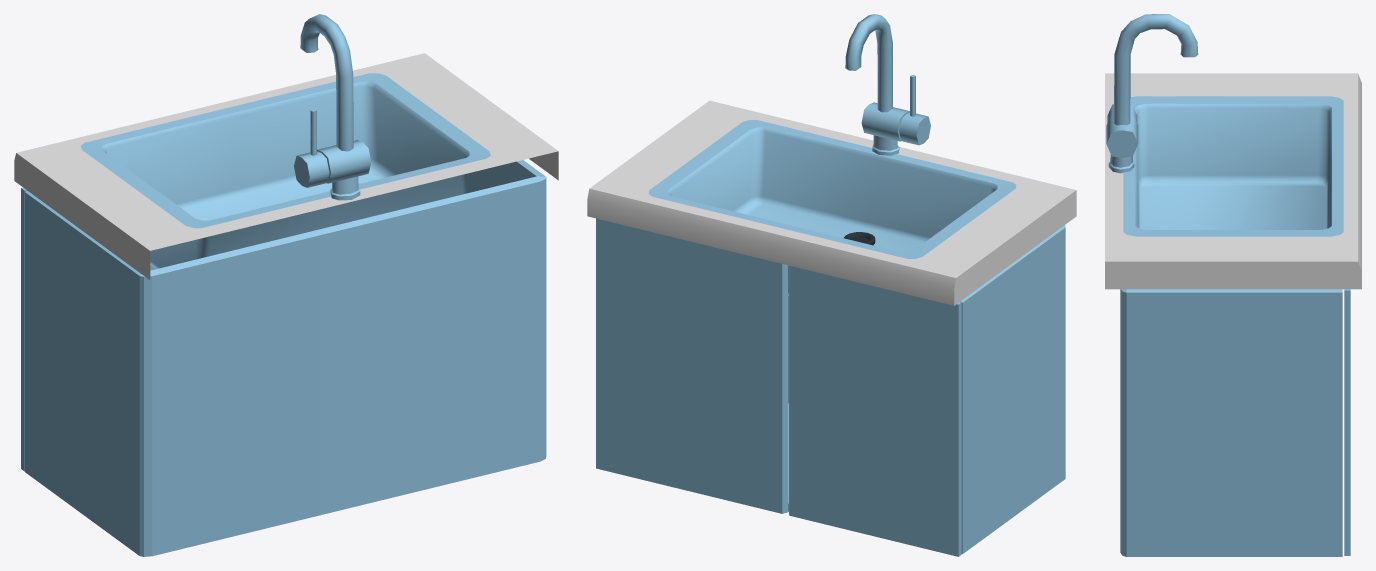
Rendered from Prop_sink.FBX.
3 renders of one model, left to right at view 1: azimuth 30°, elevation 25°; view 2: azimuth 150°, elevation 25°; view 3: azimuth 270°, elevation 25°, orthographic. The views are drawn at different scales.
Visible parts, largest first — view 1: Prop_closet034, Box160, Prop_kitchentop003, Tap, Prop_closet033; view 2: Prop_closet032, Prop_closet033, Prop_kitchentop003, Box160, Prop_closet034, Tap; view 3: Prop_closet034, Box160, Prop_kitchentop003, Tap, Prop_closet032.
Boxes of the visible parts, x1,y1,x2,y2 form: Prop_closet034: (25, 160, 546, 556); Box160: (81, 73, 490, 268); Prop_kitchentop003: (14, 53, 558, 279); Tap: (294, 14, 371, 200); Prop_closet033: (21, 187, 155, 471); Prop_closet032: (596, 218, 788, 513); Prop_closet033: (789, 265, 961, 556); Prop_kitchentop003: (587, 100, 1076, 305); Box160: (648, 120, 1016, 295); Prop_closet034: (788, 225, 1065, 553); Tap: (845, 14, 930, 155); Prop_closet034: (1120, 289, 1342, 556); Box160: (1123, 96, 1343, 236); Prop_kitchentop003: (1105, 73, 1361, 289); Tap: (1106, 14, 1198, 173); Prop_closet032: (1344, 289, 1350, 555).
Bounding box in the file's own units: 51.62 × 29.76 × 57.44.
